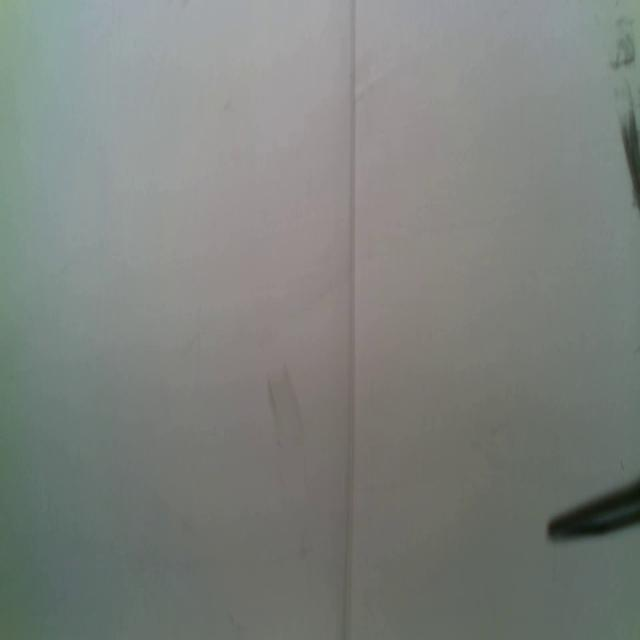crease: (339, 0, 356, 640)
